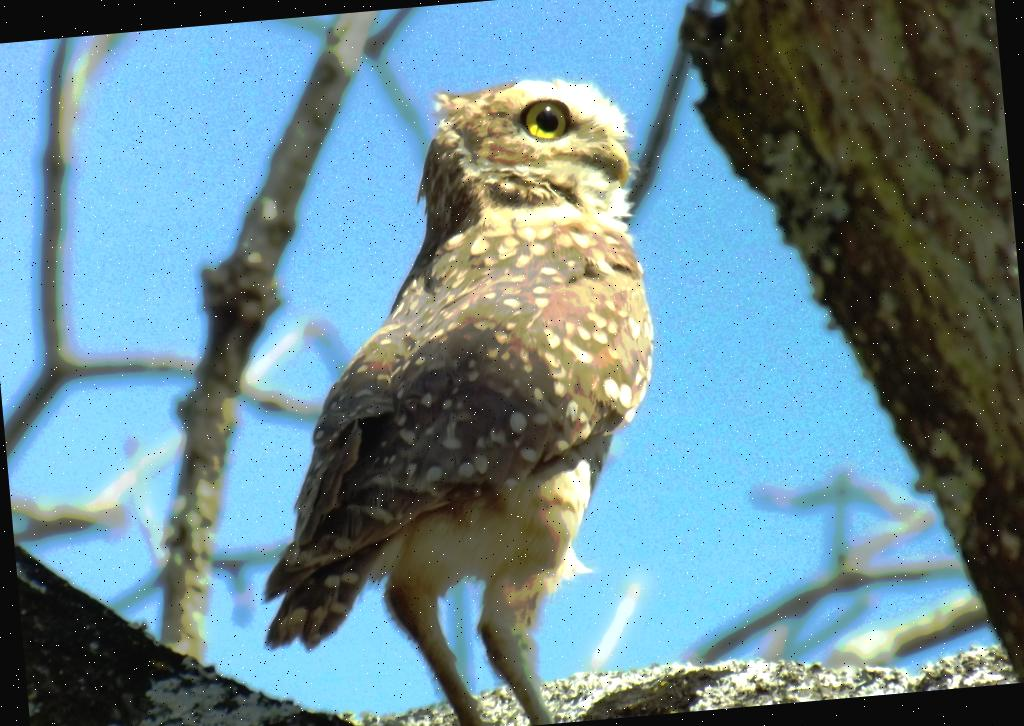Owl: (248, 66, 680, 664)
